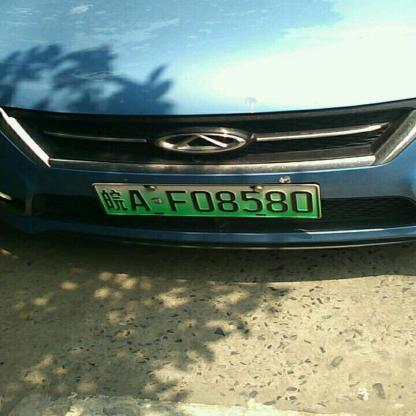lp: (95, 184, 320, 216)
